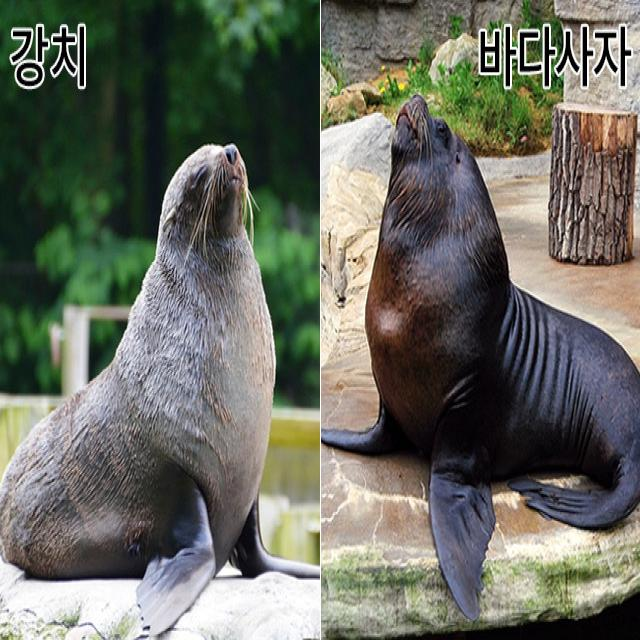WaterDog: (0, 138, 284, 633)
